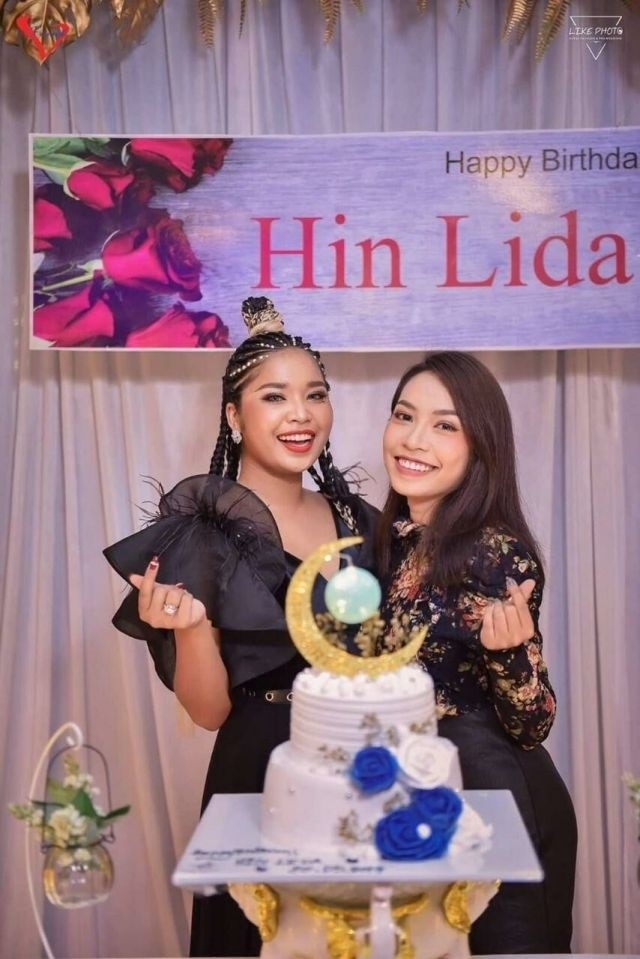face_no_mask: (379, 350, 504, 501), (225, 332, 335, 473)
